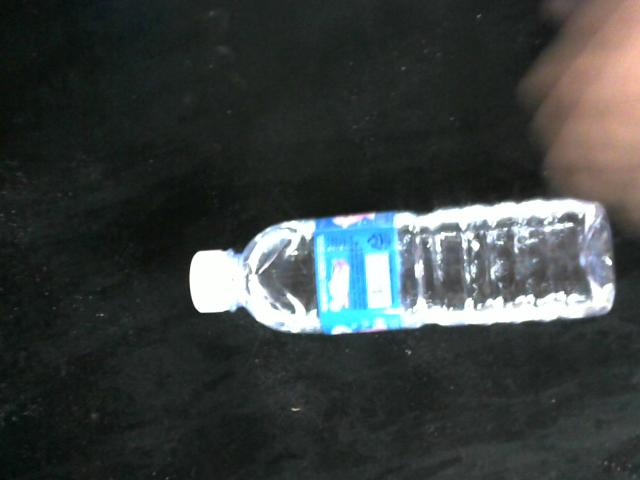bottle: (189, 195, 618, 337)
